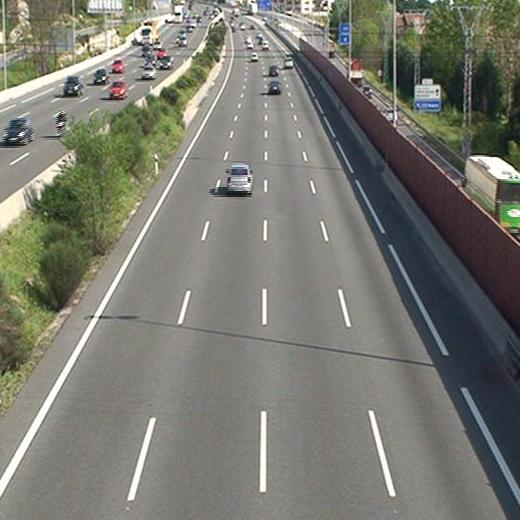car: (226, 164, 252, 192), (268, 79, 282, 92), (268, 65, 280, 77), (283, 57, 293, 67)
